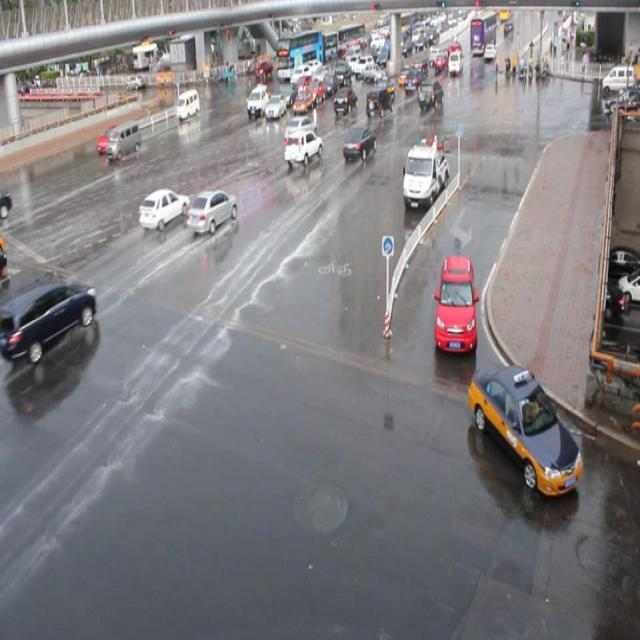bus: (401, 135, 448, 203)
car: (467, 360, 582, 493), (12, 278, 96, 358), (432, 255, 478, 352), (185, 188, 238, 232), (138, 187, 189, 231), (282, 129, 322, 165), (341, 125, 376, 158), (364, 86, 394, 118), (282, 115, 316, 143), (416, 78, 443, 110), (96, 124, 123, 152), (333, 86, 357, 114), (246, 82, 270, 106), (264, 90, 286, 116), (291, 85, 312, 112), (305, 75, 324, 99), (279, 79, 298, 101), (292, 70, 310, 92)
truck: (105, 120, 142, 160), (176, 89, 199, 120), (248, 83, 270, 114)
